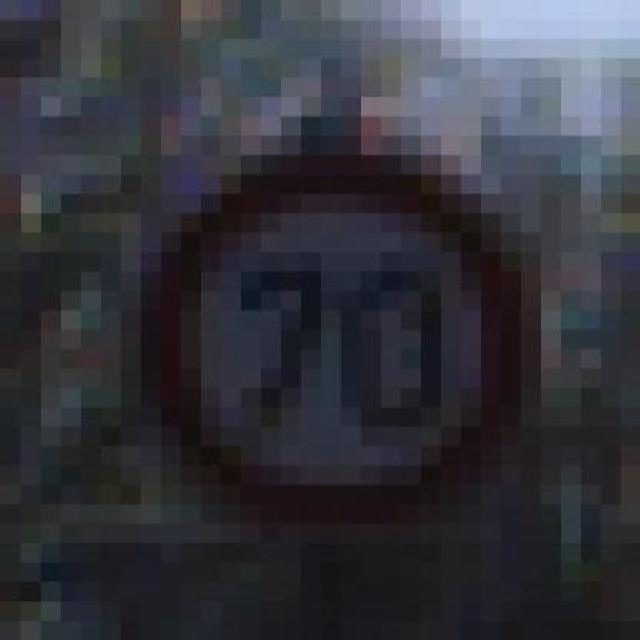forb_speed_over_70: (159, 161, 526, 515)
